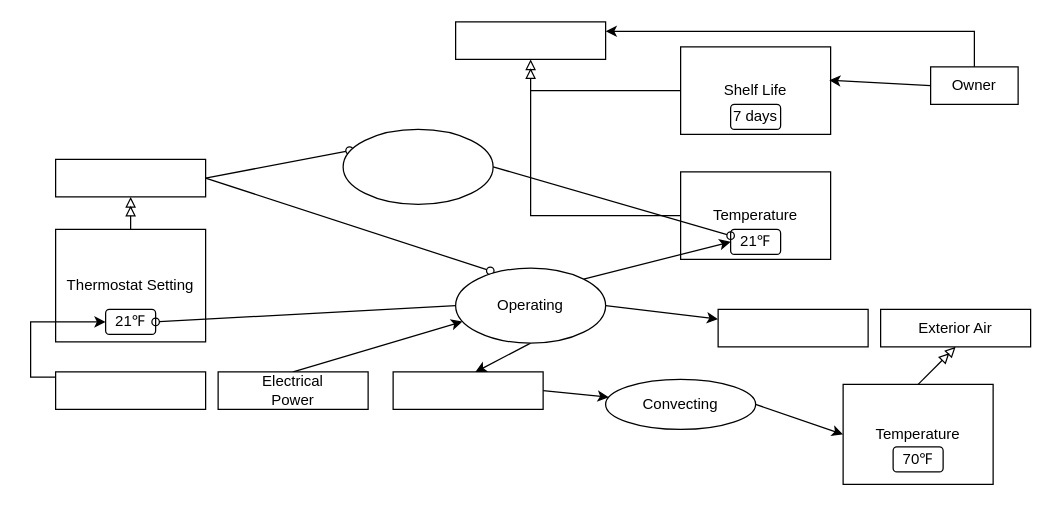
The diagram is 1053 pixels wide and 506 high, and some of its shapes have lost their labels. The centre of each missing label's shape, as x and y in pixels:
Extending: [417,166]
Food: [530,40]
Interior Air: [792,327]
Operator: [130,390]
Refrigerator: [130,177]
Waste Heat: [467,390]
